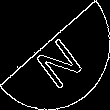N_NW: (26, 22, 84, 88)
